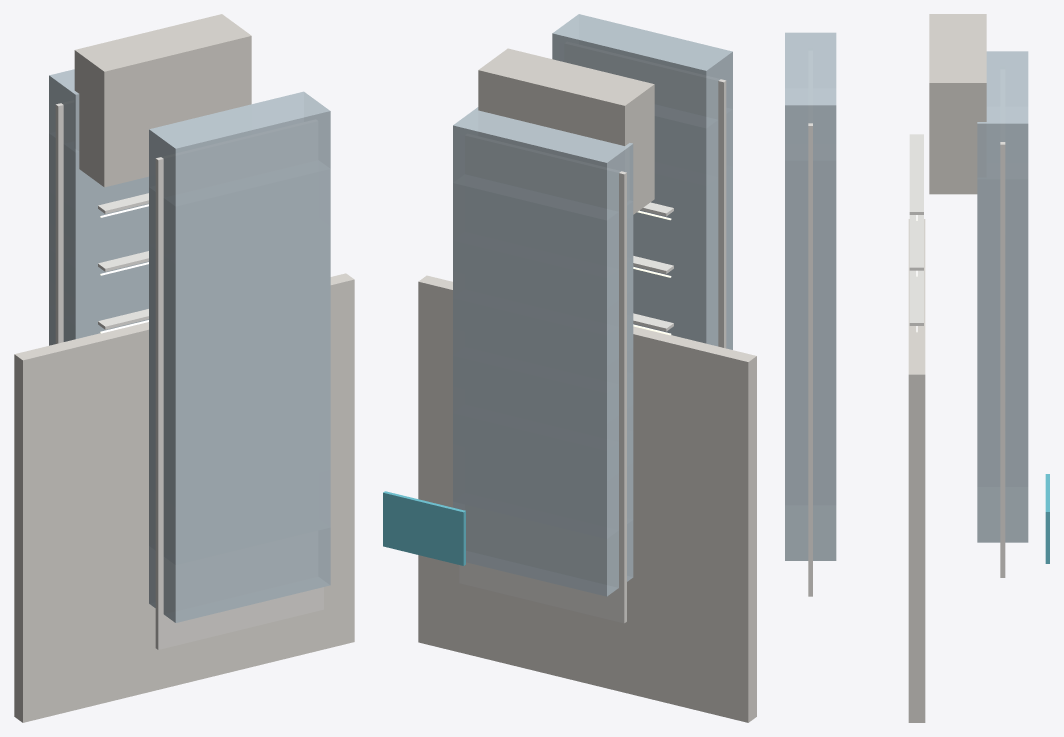
Rendered from predio.glb.
3 views of the same model, side by side, from view 1: azimuth 30°, elevation 25°; view 2: azimuth 150°, elevation 25°; view 3: azimuth 270°, elevation 25° (orthographic). The views are drawn at different scales.
Parts seen in each view (by area): view 1: terreo, unidade_201, unidade_501, nucleo, unidade_601, unidade_301, unidade_401, unidade_101, unidade_502, unidade_402, unidade_302, laje_101 (+9 smaller); view 2: terreo, unidade_602, unidade_202, unidade_502, unidade_302, unidade_601, unidade_402, unidade_102, nucleo, unidade_401, laje_102, piscina (+10 smaller); view 3: nucleo, unidade_201, unidade_602, terreo, unidade_601, unidade_102, unidade_501, unidade_301, unidade_302, unidade_502, unidade_101, unidade_402 (+11 smaller).
Boxes of the visible parts, x1,y1,x2,y2 form: terreo: (14,273,354,722); unidade_201: (149,342,330,564); unidade_501: (149,169,330,384); nucleo: (74,14,251,187); unidade_601: (149,91,330,332); unidade_301: (149,285,330,500); unidade_401: (149,226,330,442); unidade_101: (149,401,330,622); unidade_502: (49,133,148,298); unidade_402: (49,193,148,341); unidade_302: (49,251,148,345); laje_101: (155,448,323,649); terreo: (418,275,756,722); unidade_602: (453,107,633,308); unidade_202: (453,356,633,538); unidade_502: (453,183,633,365); unidade_302: (453,299,633,480); unidade_601: (552,14,732,254); unidade_402: (453,240,633,420); unidade_102: (453,415,633,596); nucleo: (478,48,654,214); unidade_401: (634,167,732,348); laje_102: (459,460,626,623); piscina: (383,491,465,565); nucleo: (929,14,986,194); unidade_201: (785,327,836,505); unidade_602: (977,51,1028,264); terreo: (908,219,925,722); unidade_601: (785,32,836,282); unidade_102: (977,401,1028,542); unidade_501: (785,160,836,336); unidade_301: (785,272,836,449); unidade_302: (977,290,1028,430); unidade_502: (977,179,1028,318); unidade_101: (785,383,836,560); unidade_402: (977,235,1028,375).
Size of the model in its own units: 9 by 16.1 by 6.47.
